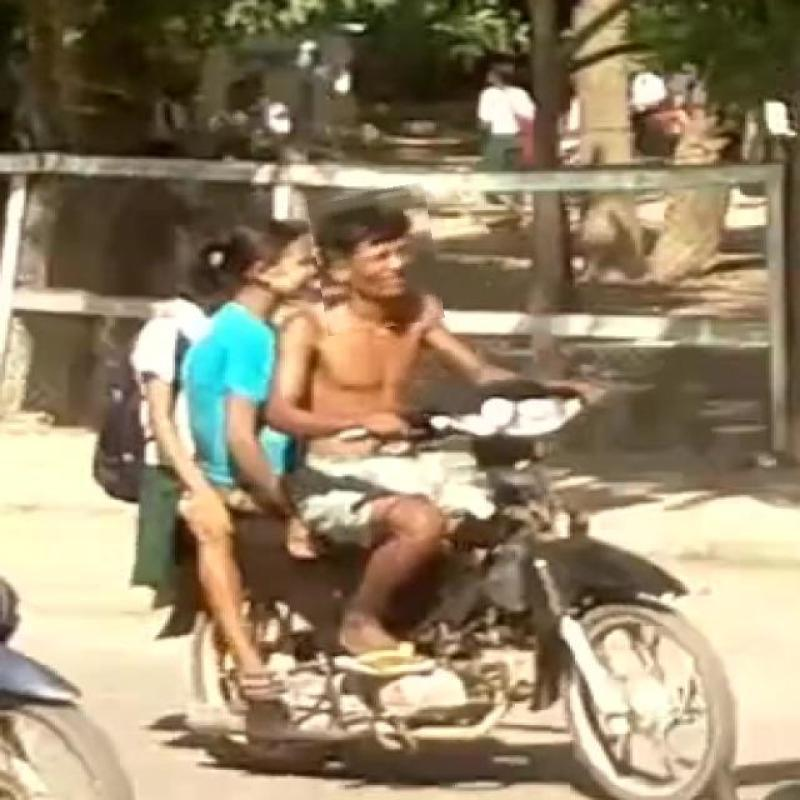nohelmet: (312, 186, 440, 332)
